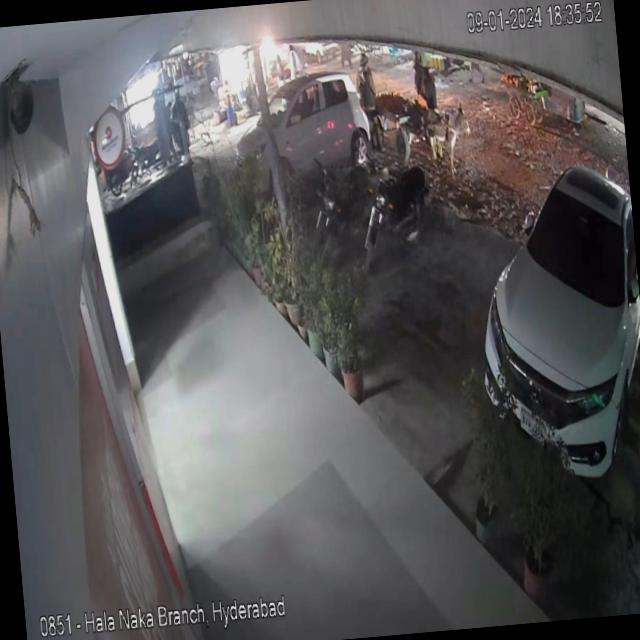Car: (464, 140, 640, 504), (228, 68, 392, 202)
Motorcycle: (358, 145, 440, 279), (310, 160, 374, 266)
